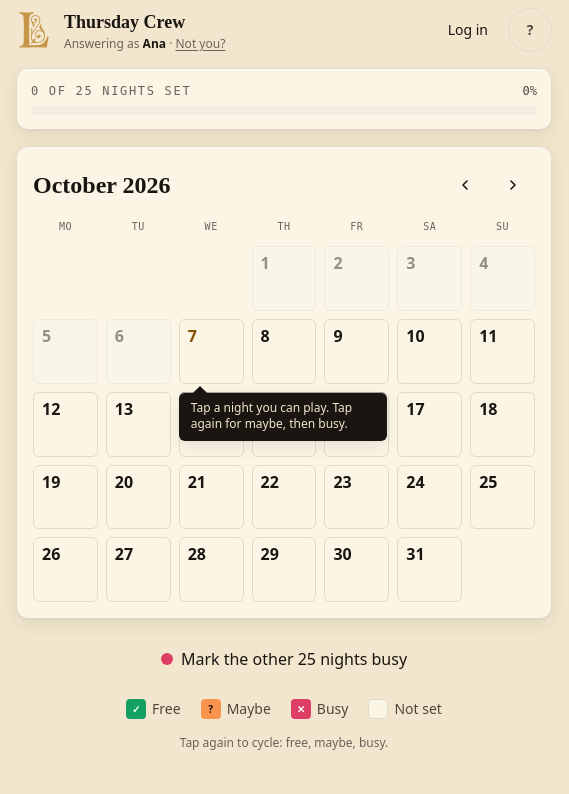
Test: PlayerScreen › waits for the first answer to save before showing the visitor nudge
Click the button named "Wednesday, October 7:". click: (211, 351)
box: [179, 319, 244, 384]
(page scrolled)
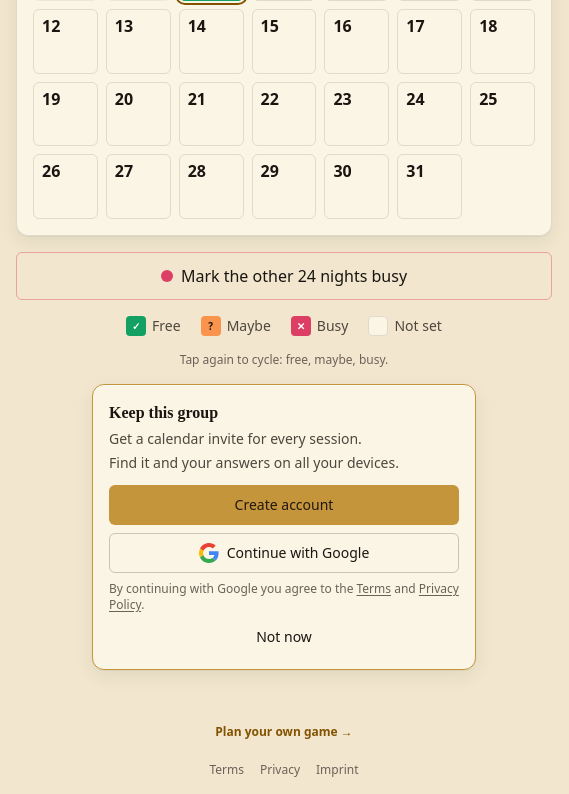
Expected: the element "Keep this group" is shown, [92, 384, 476, 670]
